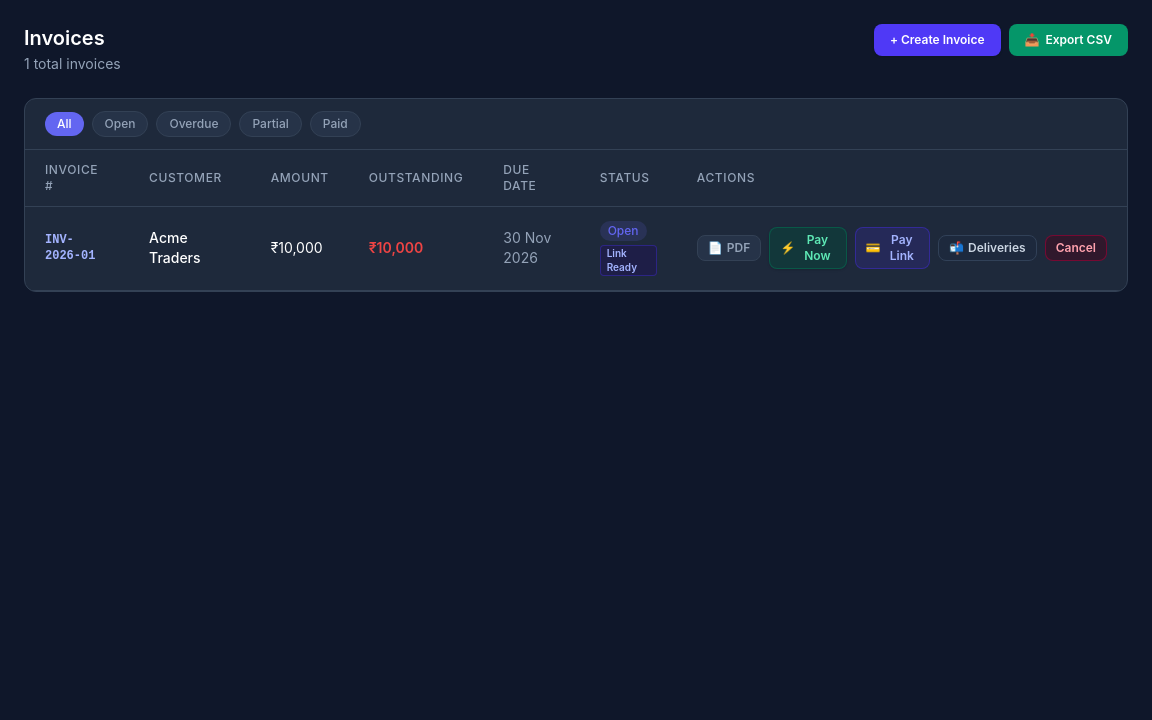
it: P2-07: Responsive Web Shell, Toast, ConfirmDialog, ErrorBoundary & Error Feedback › Confirmation dialogs & duplicate submit prevention › confirms Invoice cancellation on InvoicesPage without breaking RBAC
Click the button with aria-label "Cancel invoice INV-2026-01": {"x": 1076, "y": 248} x1=1045 y1=235 x2=1107 y2=261
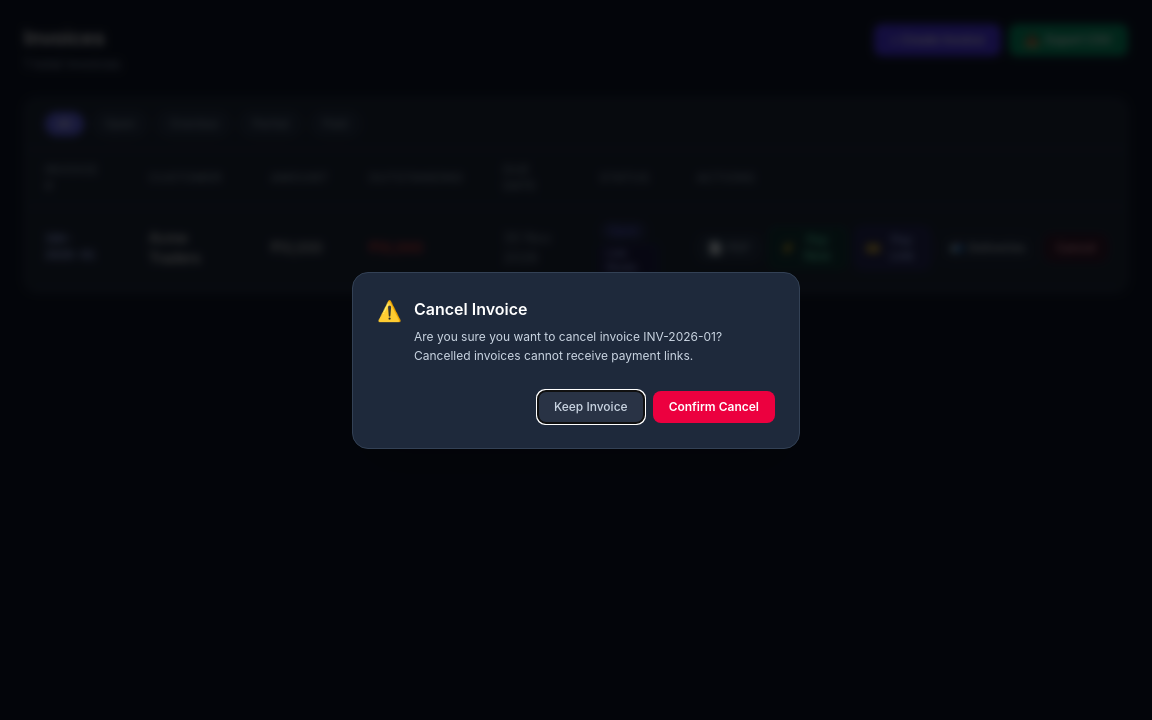
Expected: the dialog shows "cancel invoice INV-2026-01", x1=414 y1=328 x2=722 y2=363
Click the button "Confirm Cancel": {"x": 714, "y": 406} x1=653 y1=390 x2=775 y2=422
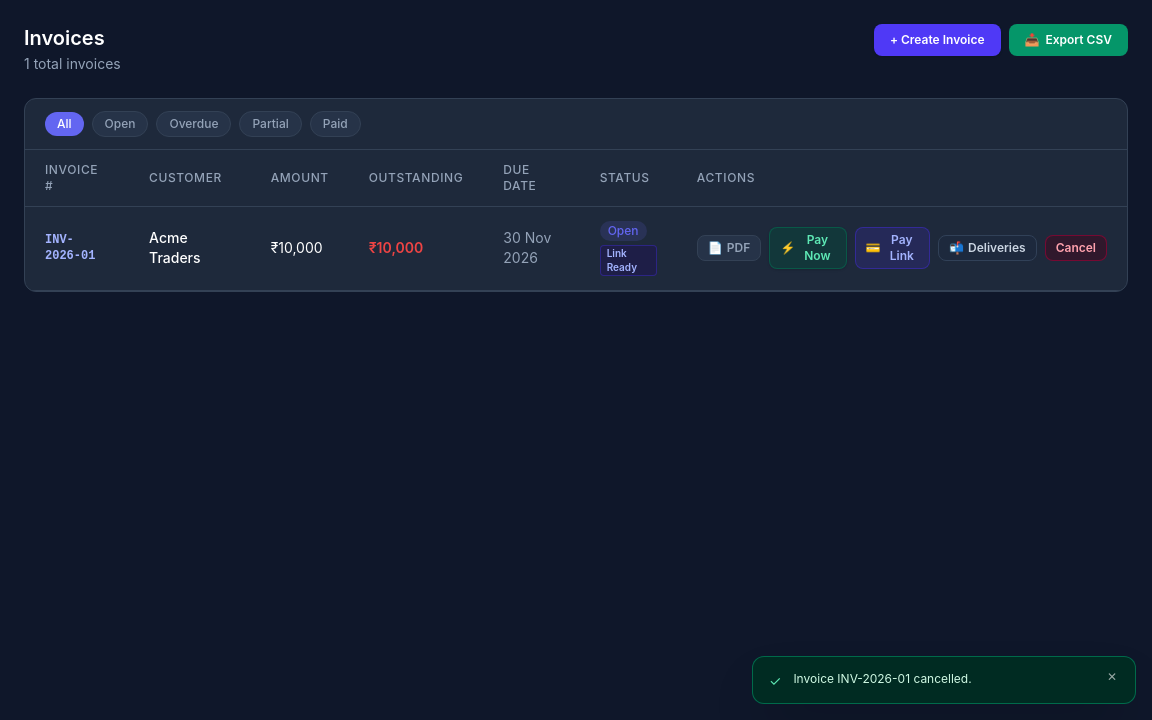
Expected: the text "Invoice INV-2026-01 cancelled." is shown, x1=793 y1=671 x2=972 y2=686
